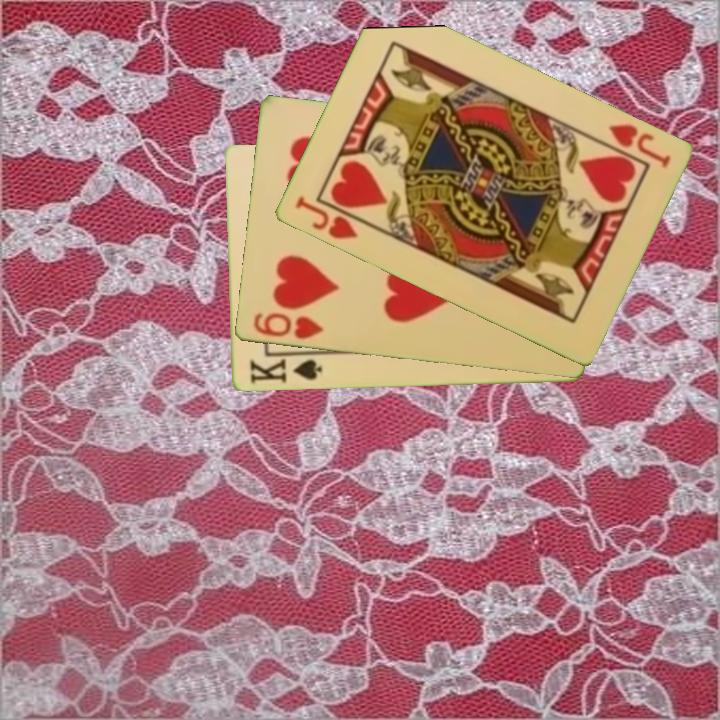6h: (249, 309, 326, 343)
Jh: (290, 192, 360, 243), (604, 120, 673, 171)
Ks: (246, 352, 325, 387)
